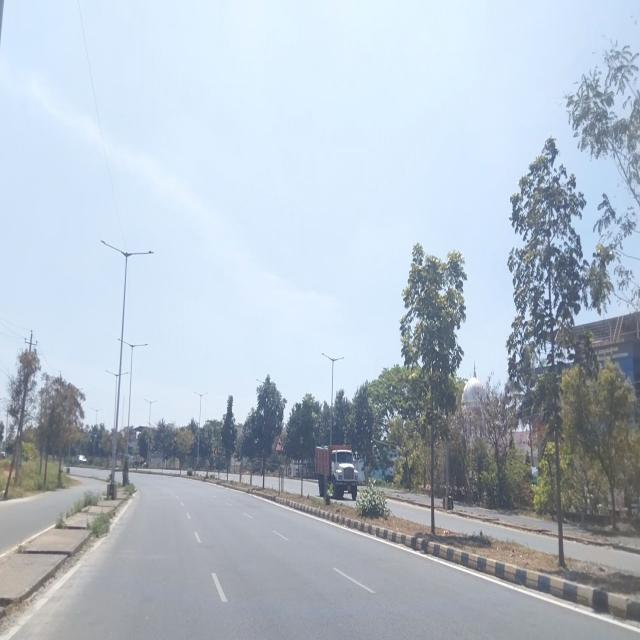bien_cam: (274, 435, 284, 452)
